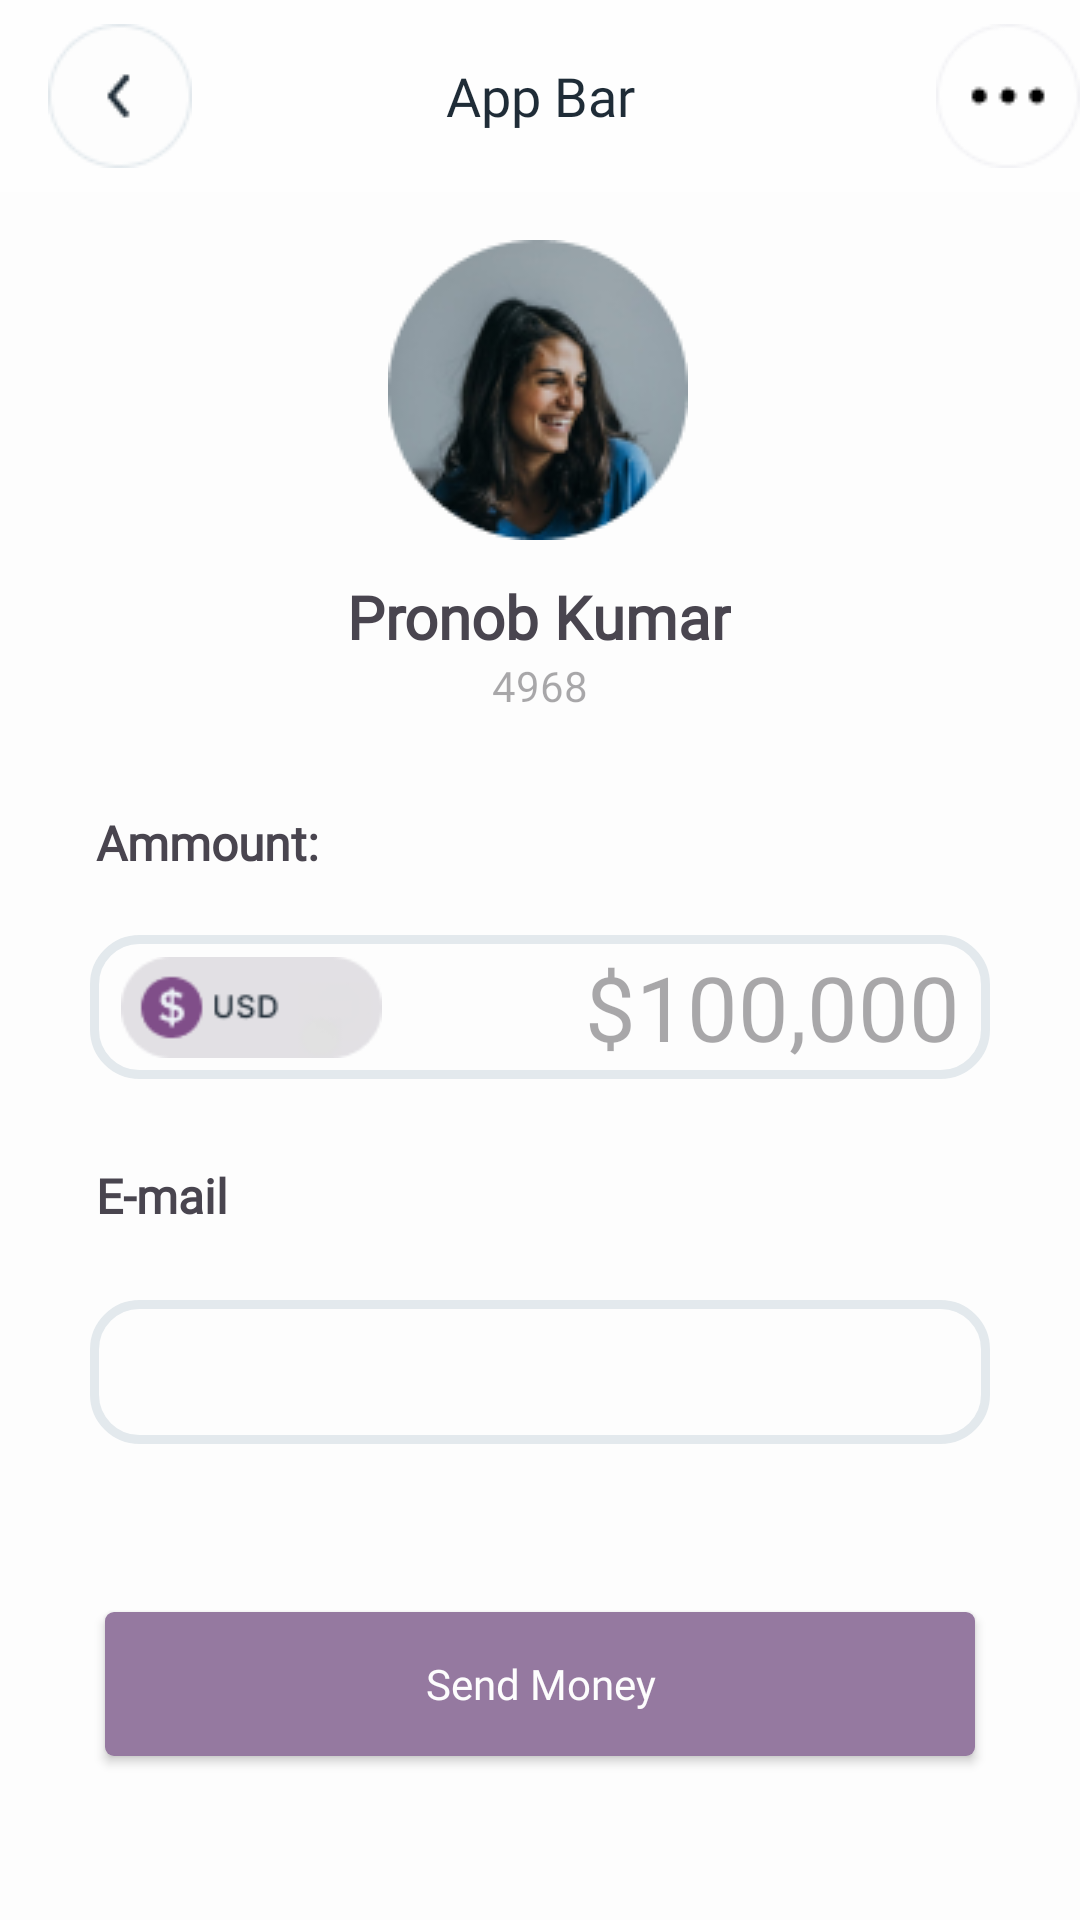

Icon click points for this 1080 x 1920 phone screenshot, format (x,y):
arrow back: (120,96)
profile pic: (538,390)
three dot: (1008,96)
